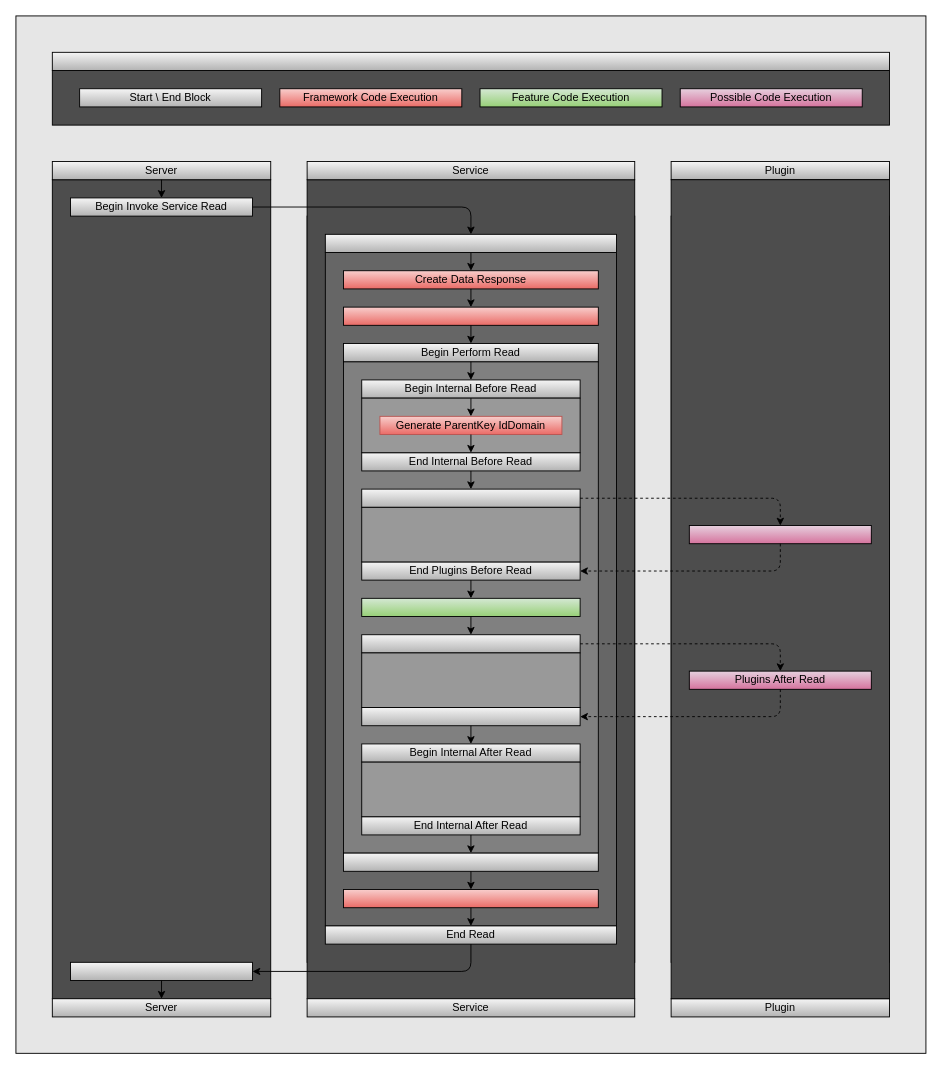
This 942x1069 diagram has some shape labels left out. Here are the shapes that lost their labels. From the top down, the centre of each, then its label:
At pixel 470 61: "Legend".
At pixel 470 243: "Begin Read".
At pixel 470 315: "Open Database Connection".
At pixel 470 497: "Begin Plugins Before Read".
At pixel 779 534: "Plugins Before Read".
At pixel 470 607: "On Read".
At pixel 470 643: "Begin Plugins After Read".
At pixel 470 716: "End Plugins After Read".
At pixel 470 861: "End Perform Read".
At pixel 470 898: "Close Database Connection".
At pixel 161 971: "End Invoke Service Read".
